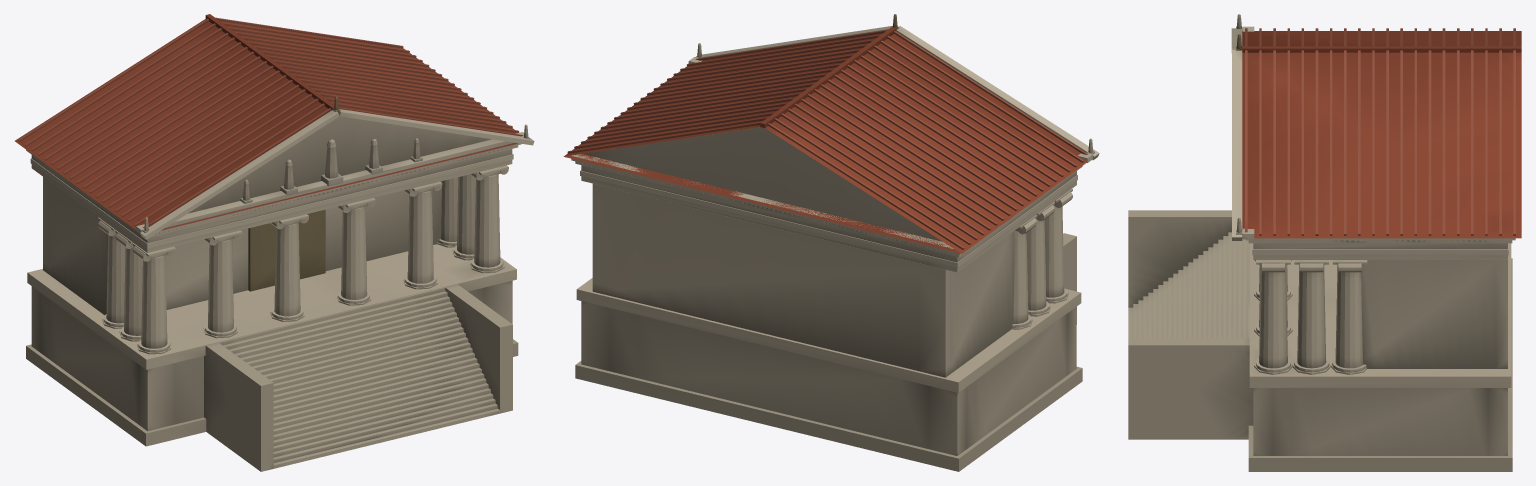
Rendered from temple-of-saturn.glb.
3 views of the same model, side by side, from view 1: azimuth 30°, elevation 25°; view 2: azimuth 150°, elevation 25°; view 3: azimuth 270°, elevation 25° (orthographic). The views are drawn at different scales.
Parts seen in each view (by area): view 1: p2_roof, p0_podium, p1_columns; view 2: p2_roof, p1_columns, p0_podium; view 3: p2_roof, p0_podium, p1_columns.
Part boxes in pixels (left/top/right/bottom): p2_roof: left=15, top=14, right=534, bottom=252; p0_podium: left=26, top=244, right=518, bottom=471; p1_columns: left=43, top=165, right=508, bottom=354; p2_roof: left=563, top=14, right=1099, bottom=272; p1_columns: left=592, top=183, right=1072, bottom=377; p0_podium: left=575, top=233, right=1082, bottom=471; p2_roof: left=1231, top=14, right=1521, bottom=259; p0_podium: left=1128, top=210, right=1512, bottom=471; p1_columns: left=1254, top=260, right=1507, bottom=374.
Bounding box in the file's own units: 42.72 × 32.25 × 34.
